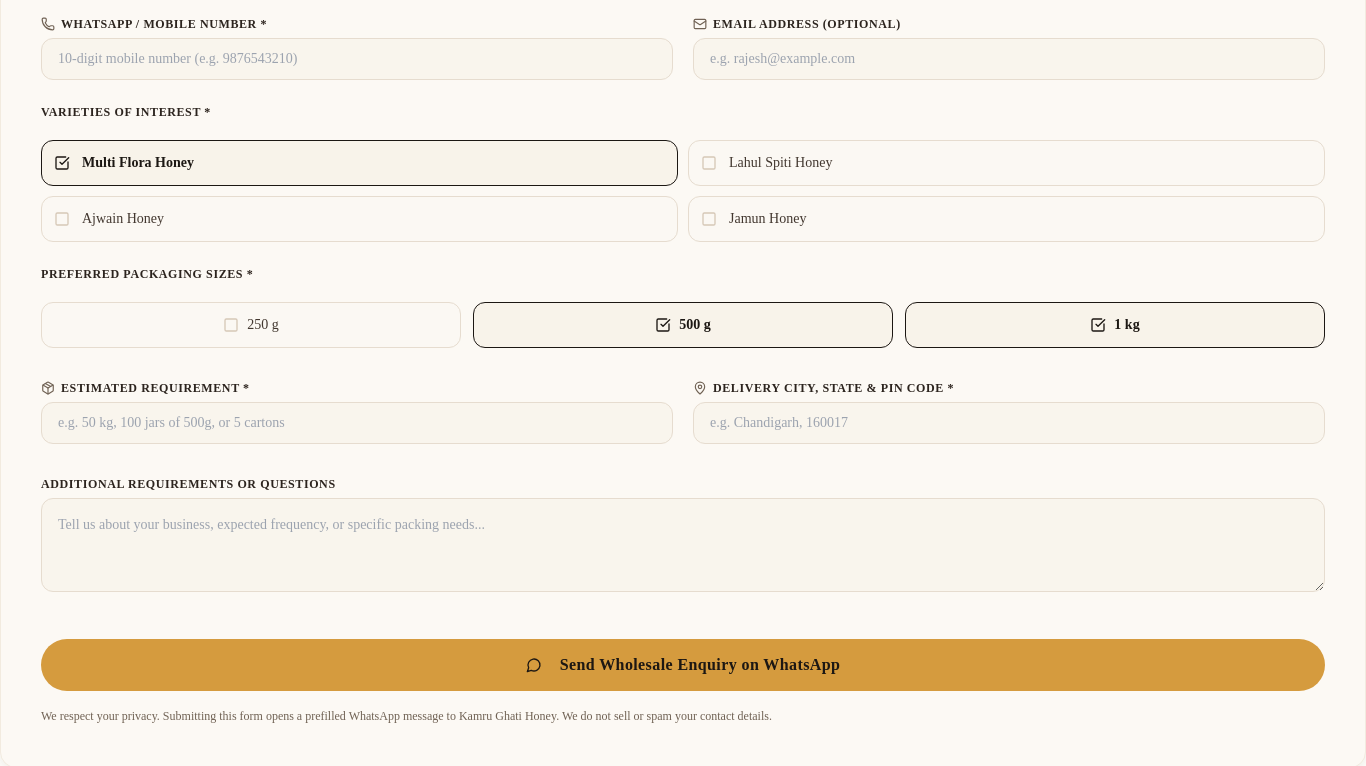
Test: Wholesale Enquiry Form Flow & Validation › displays validation errors when submitting with empty required inputs
(page scrolled)
Click the button "Send Wholesale Enquiry on WhatsApp": (683, 665) [41,639,1325,691]
(page scrolled)
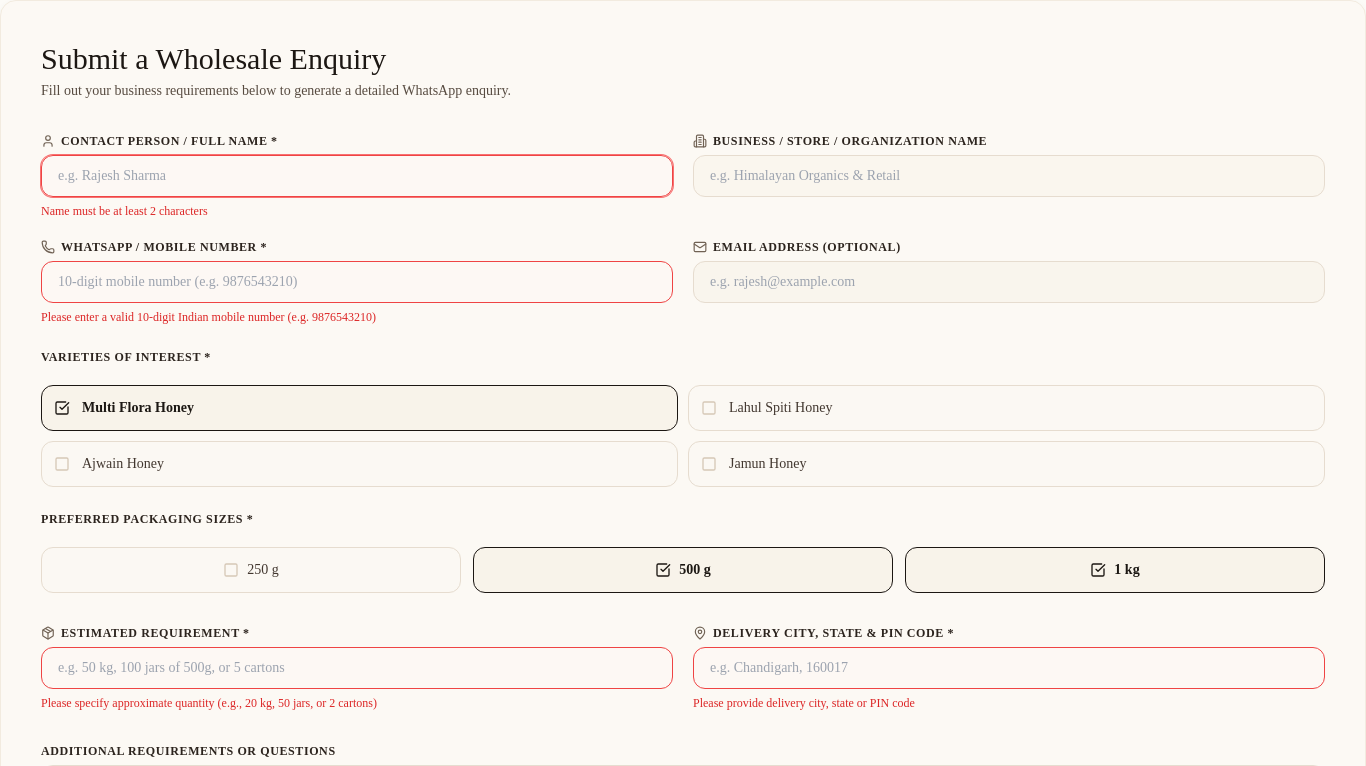
expect the text "Name must be at least 2 characters" is shown: met, box [41,204,208,218]
expect the text "Please enter a valid 10-digit Indian mobile number" is shown: met, box [41,310,376,324]
